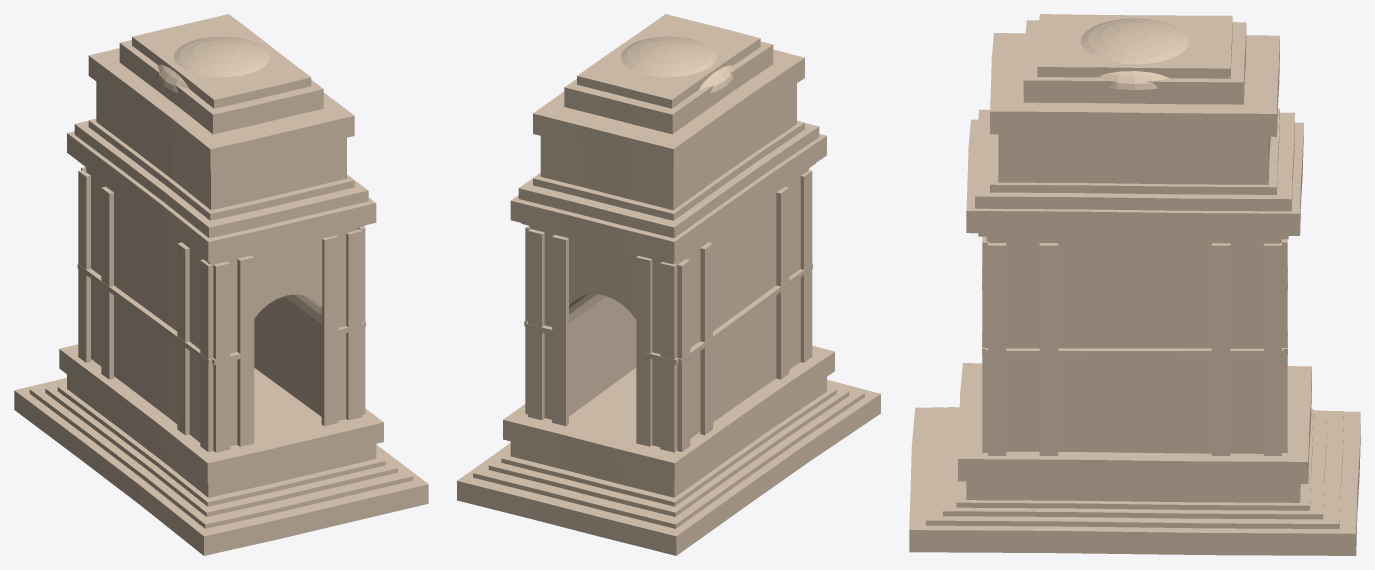
File: india-gate_lod0.glb
3 views of the same model, side by side, from view 1: azimuth 30°, elevation 25°; view 2: azimuth 150°, elevation 25°; view 3: azimuth 270°, elevation 25° (orthographic). The views are drawn at different scales.
Parts seen in each view (by area): view 1: india-gate; view 2: india-gate; view 3: india-gate.
Part boxes in pixels (bbox=[...]): india-gate: bbox=[14, 14, 428, 555]; india-gate: bbox=[457, 14, 880, 555]; india-gate: bbox=[909, 14, 1360, 555].
Size of the model in its own units: 24.39 by 41.38 by 36.88.
